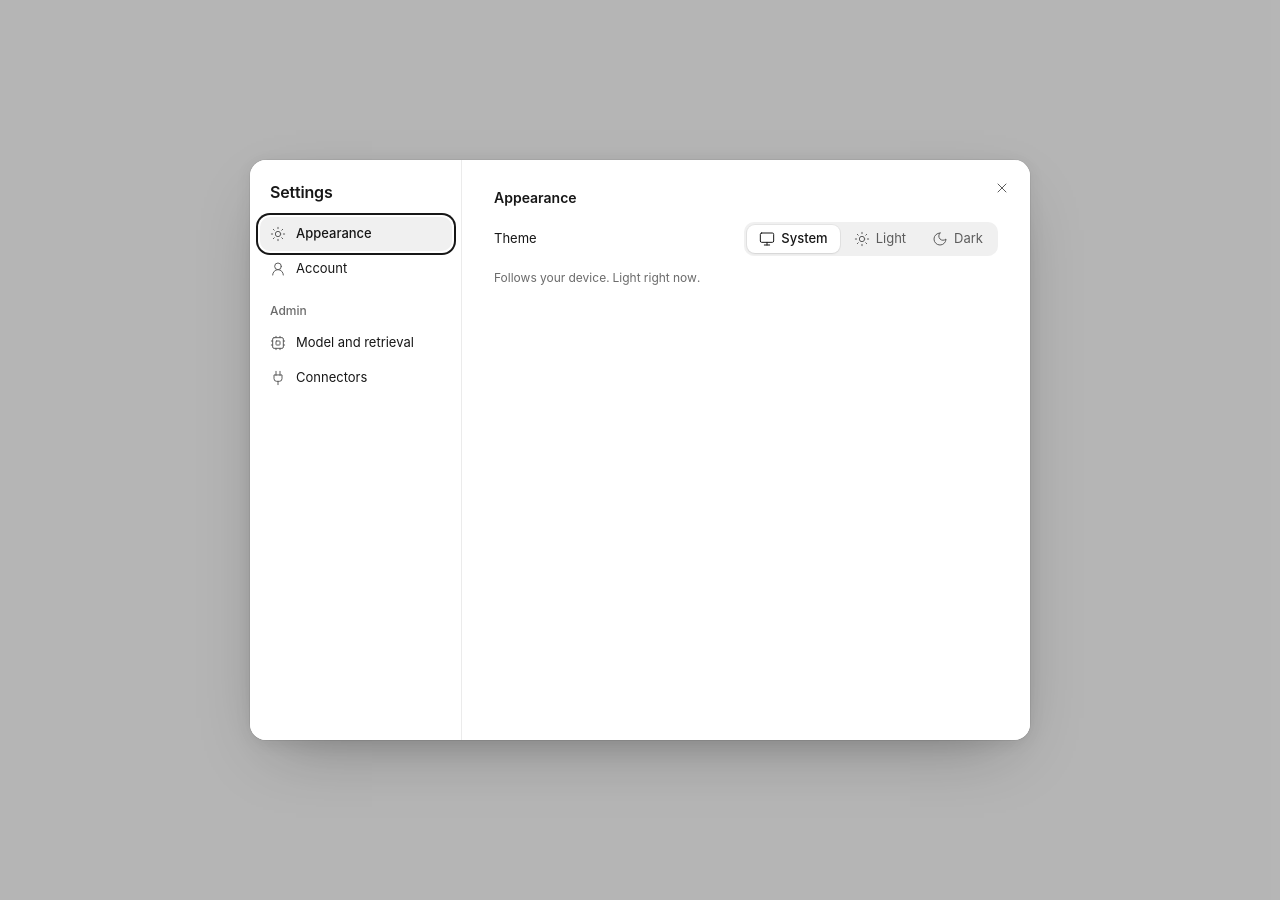
Test case: SettingsDialog › renders read-only config and a disabled GitHub connect for admins
Click the button "Model and retrieval" at {"x": 356, "y": 343}, box [260,326,452,360]
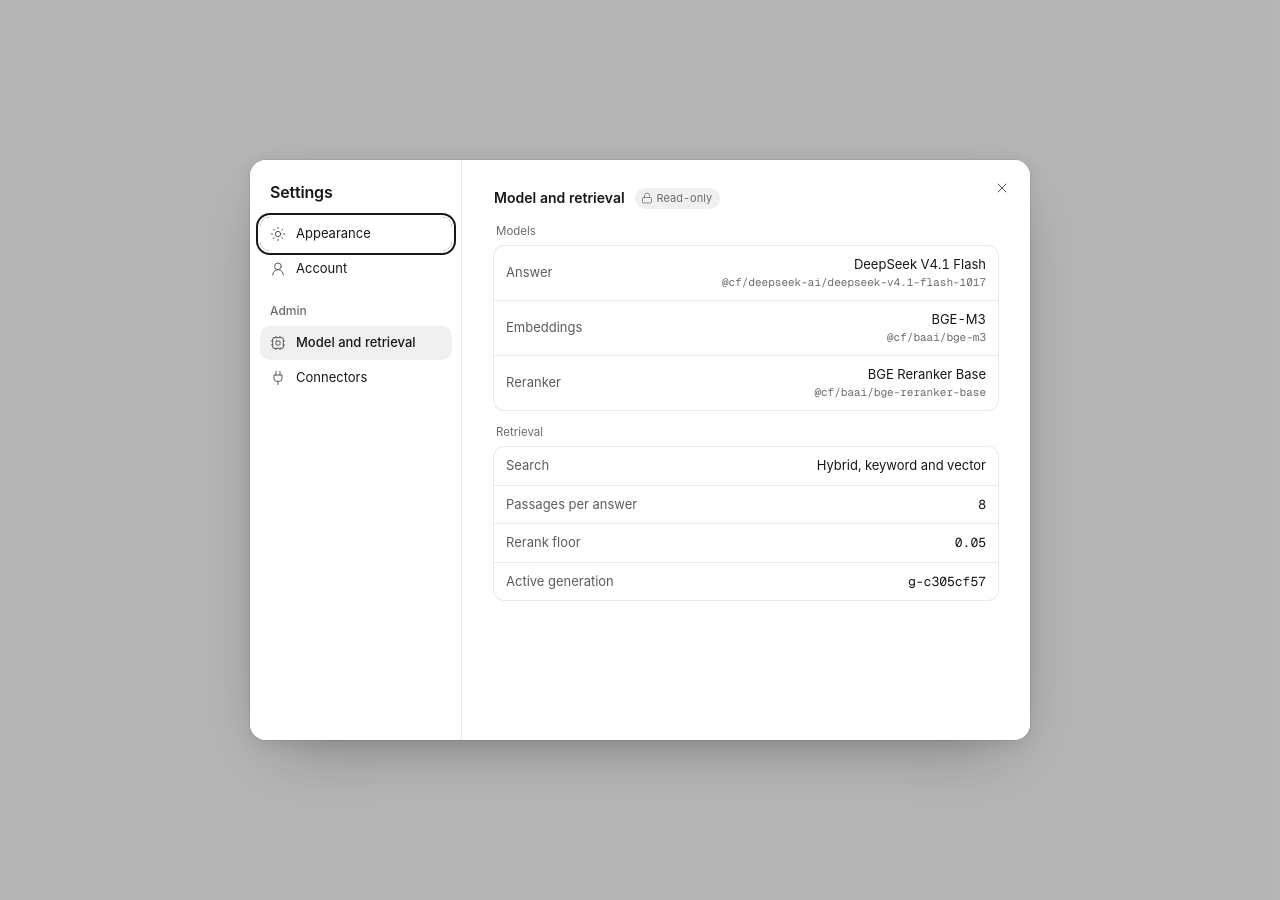
Expected: the text "Read-only" is shown, [635,188,720,208]
Expected: the text "BGE-M3" is shown, [931,310,986,329]
Expected: the text "@cf/baai/bge-m3" is shown, [887,329,986,346]
Click the button "Connectors" at {"x": 356, "y": 378}, box [260,361,452,395]
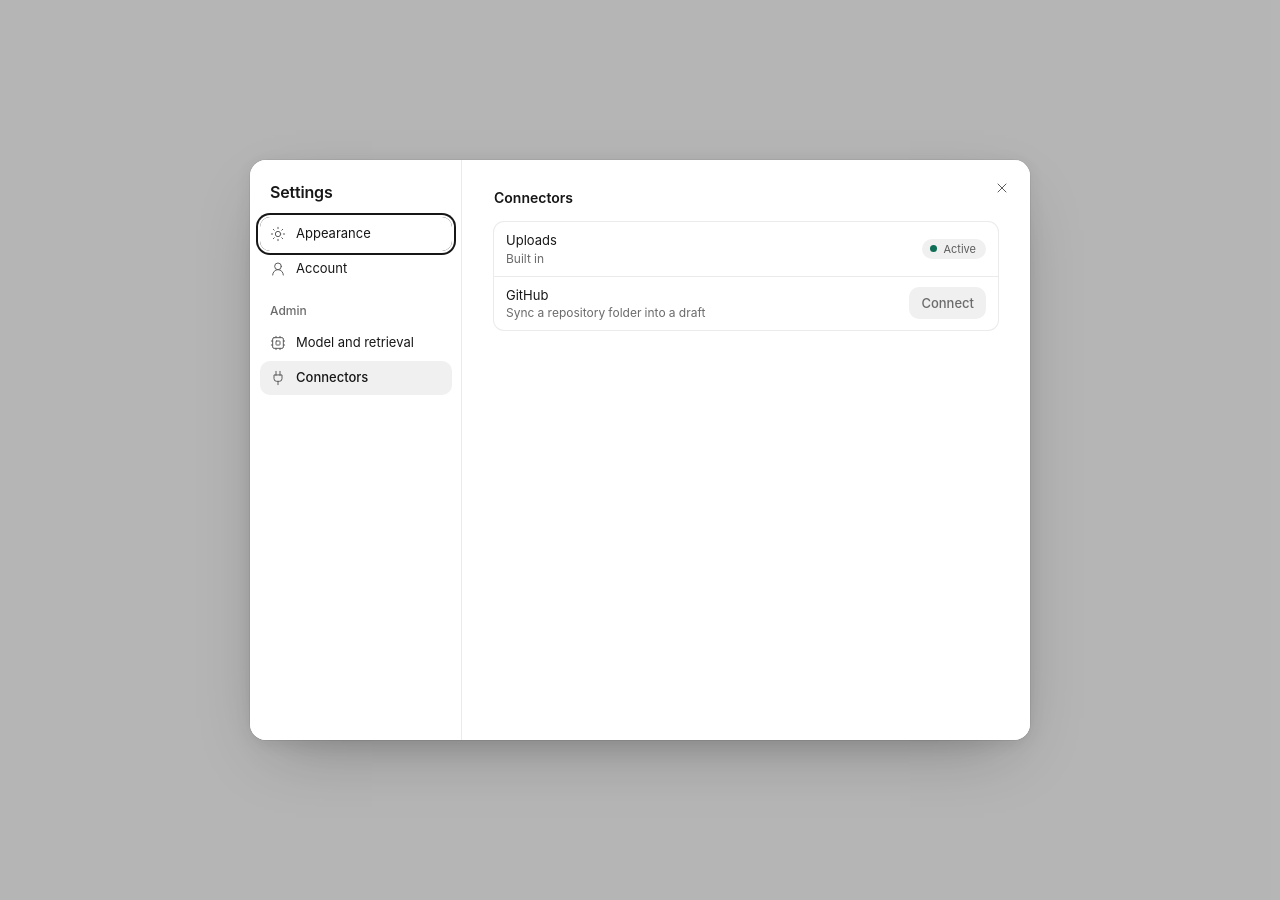
Expected: the button "Connect" is disabled, [909,287,986,319]
Expected: the text "Active" is shown, [922,238,986,259]
